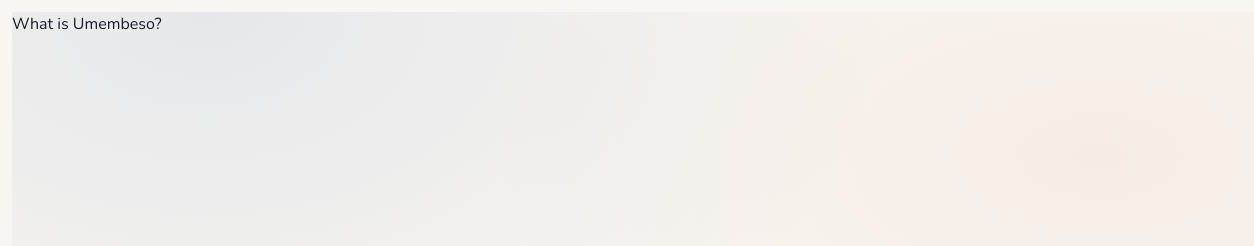
it: LearnIntegration › guide card is collapsed by default
The width and height of the screenshot is (1254, 246).
Expected: the text "Test body text" is not shown
Click the button with test id "guide-trigger": [87, 24] box [12,12,162,36]
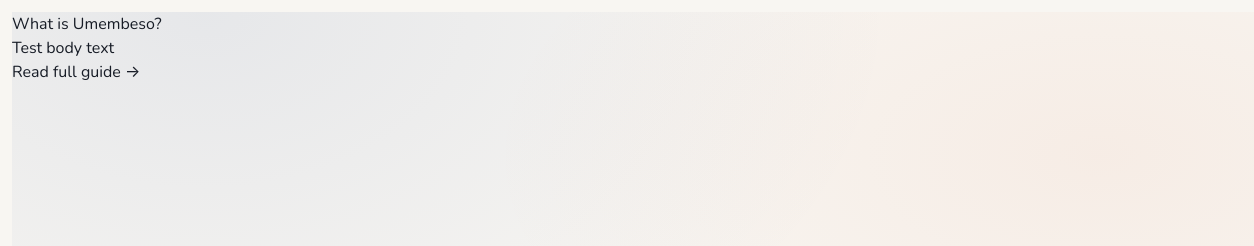
Now the text "Test body text" is shown, box [12,37,114,59]
